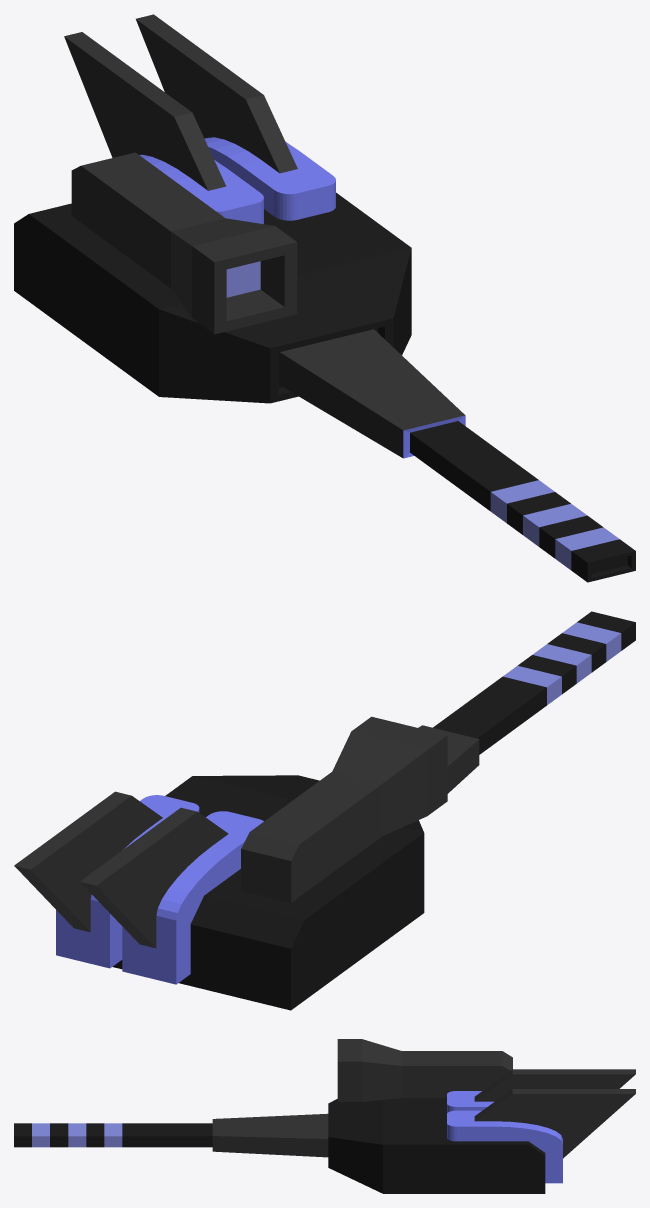
File: topRicochet.fbx
3 renders of one model, top to bottom at view 1: azimuth 30°, elevation 25°; view 2: azimuth 150°, elevation 25°; view 3: azimuth 270°, elevation 25°, orthographic. The views are drawn at different scales.
Visible parts, largest first — view 1: Cube.001; view 2: Cube.001; view 3: Cube.001.
Boxes of the visible parts, left/top/right/bottom form: Cube.001: left=14, top=14, right=635, bottom=582; Cube.001: left=14, top=611, right=635, bottom=1010; Cube.001: left=14, top=1039, right=635, bottom=1193.
Bounding box in the file's own units: 198 × 122 × 755.
